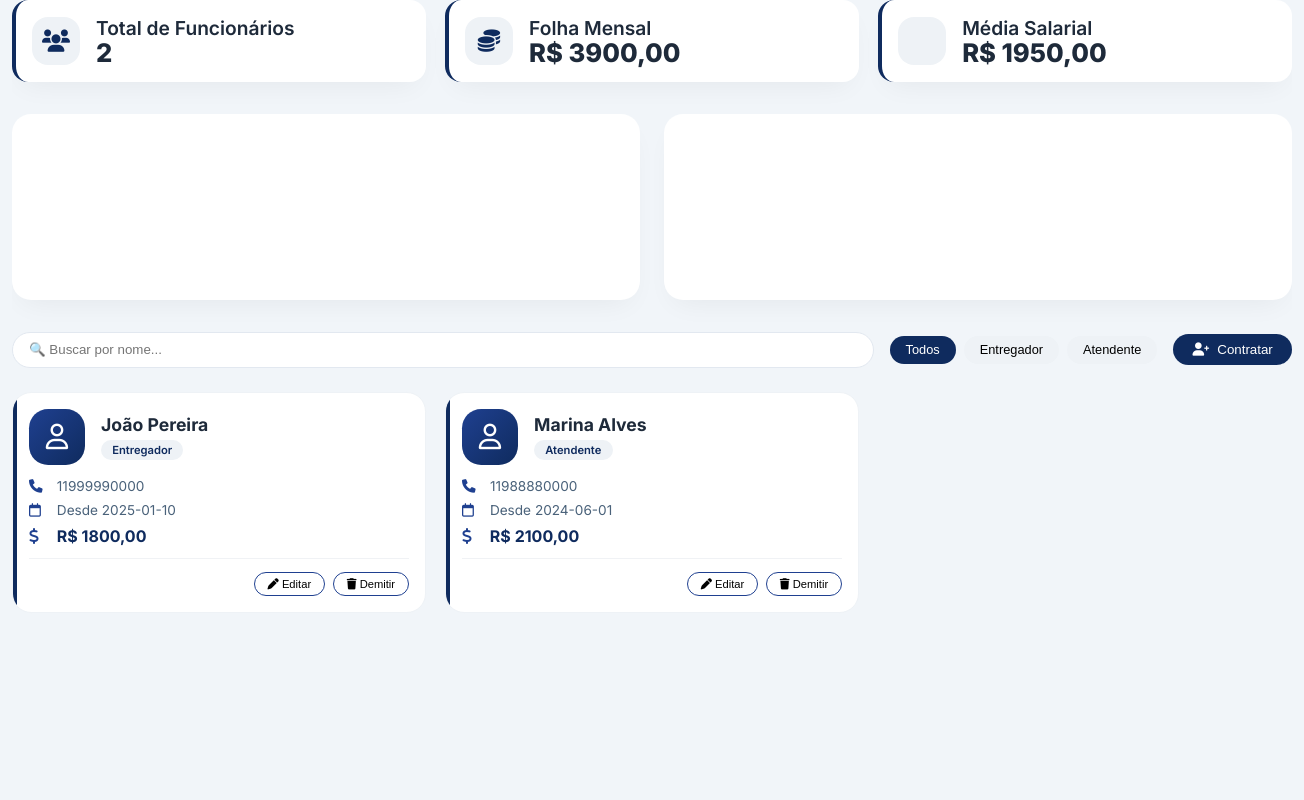
Test: EmployeesSection (painel admin — funcionários) › demitir: pede confirmação e, se confirmado, remove e persiste
Click the button "Demitir" below "R$ 1800,00".
click(371, 584)  # box [333,572,409,596]
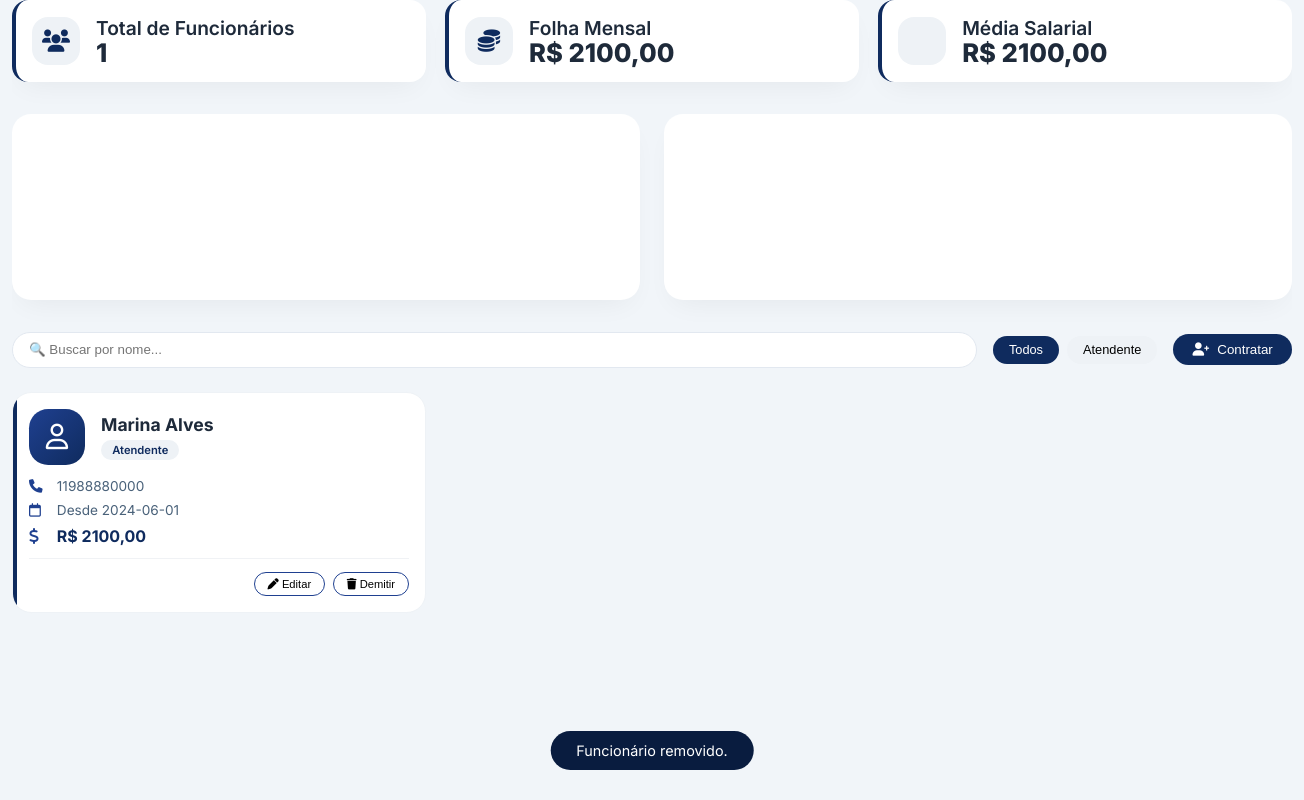
Check: the text "Funcionário removido." is shown, box [551,731,753,770]
Check: the heading "João Pereira" is gone
